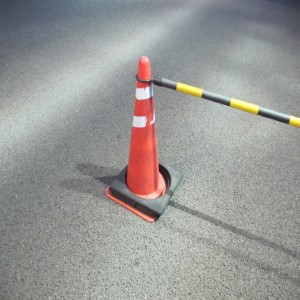traffic cone: (109, 55, 183, 218)
